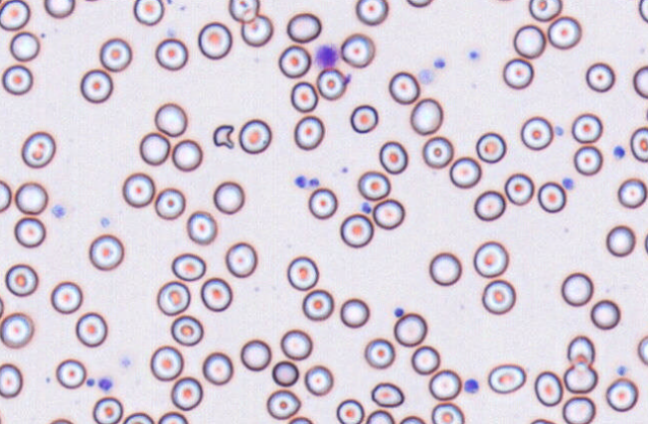PLT: (461, 375, 480, 396), (97, 376, 116, 393), (49, 203, 66, 219), (610, 144, 626, 161), (616, 364, 634, 377), (293, 173, 308, 187), (561, 176, 575, 191), (390, 306, 405, 318), (361, 200, 373, 213), (308, 176, 322, 187), (434, 57, 446, 69), (99, 216, 110, 228), (86, 377, 96, 388), (470, 50, 480, 59)
RBC: (88, 233, 124, 270), (197, 21, 232, 59), (473, 240, 508, 277), (409, 97, 443, 135), (21, 130, 55, 168), (0, 312, 34, 348), (149, 345, 183, 381), (487, 363, 526, 394), (340, 32, 374, 67), (156, 280, 190, 315), (339, 213, 373, 248), (481, 279, 515, 314), (238, 118, 271, 154), (547, 15, 581, 49), (393, 312, 427, 346), (154, 102, 187, 137), (605, 377, 638, 412), (286, 255, 319, 290), (80, 68, 113, 103), (75, 311, 107, 347), (225, 241, 257, 277), (14, 181, 48, 214), (154, 37, 188, 70), (428, 251, 461, 285), (99, 37, 132, 71), (4, 263, 38, 296), (278, 44, 311, 78), (520, 116, 553, 150), (561, 271, 593, 306), (122, 172, 154, 207), (170, 376, 202, 410), (513, 24, 545, 58), (212, 180, 244, 214), (200, 277, 232, 311), (50, 280, 82, 314), (563, 362, 598, 393), (286, 12, 321, 43), (293, 115, 324, 150), (533, 370, 563, 406), (316, 67, 348, 100), (240, 14, 273, 46), (388, 71, 420, 104), (170, 314, 203, 346), (421, 135, 453, 168), (301, 288, 333, 321), (428, 368, 461, 400), (139, 131, 170, 165), (202, 351, 233, 385), (186, 210, 217, 244), (280, 328, 312, 360), (449, 156, 481, 188), (363, 337, 395, 369), (473, 189, 505, 221), (171, 138, 202, 171), (240, 338, 271, 371), (266, 389, 300, 419), (502, 57, 533, 89), (154, 187, 185, 219), (13, 216, 45, 247), (372, 198, 404, 229), (475, 131, 506, 163), (357, 170, 390, 200), (504, 172, 534, 205), (378, 140, 407, 174), (171, 252, 205, 281), (55, 358, 86, 389), (571, 112, 602, 143), (605, 224, 635, 256), (2, 64, 32, 95), (339, 297, 369, 328), (617, 177, 647, 208), (590, 299, 620, 330), (304, 364, 333, 396), (537, 181, 566, 213), (308, 187, 337, 219), (0, 0, 30, 30), (9, 31, 39, 61), (585, 62, 615, 92), (566, 335, 595, 366), (562, 396, 595, 423), (370, 381, 404, 407), (410, 345, 440, 374), (573, 145, 602, 175), (290, 81, 318, 112), (92, 396, 123, 424), (349, 104, 378, 133), (0, 362, 23, 398), (355, 0, 388, 25), (133, 0, 164, 25), (335, 398, 364, 423), (528, 0, 562, 21), (271, 360, 298, 386), (431, 402, 464, 423), (228, 0, 259, 22), (630, 126, 648, 162), (43, 0, 75, 18), (633, 65, 648, 98), (365, 409, 394, 423), (157, 411, 188, 423), (0, 179, 11, 212), (122, 412, 154, 423), (637, 334, 648, 365), (398, 415, 426, 423), (638, 0, 648, 22), (405, 0, 434, 7), (47, 417, 74, 424), (287, 416, 313, 423), (529, 417, 556, 423), (644, 228, 648, 257), (0, 294, 4, 318), (645, 101, 648, 124), (486, 0, 517, 2), (81, 0, 104, 1)
Schistocyte: (213, 124, 237, 149)
